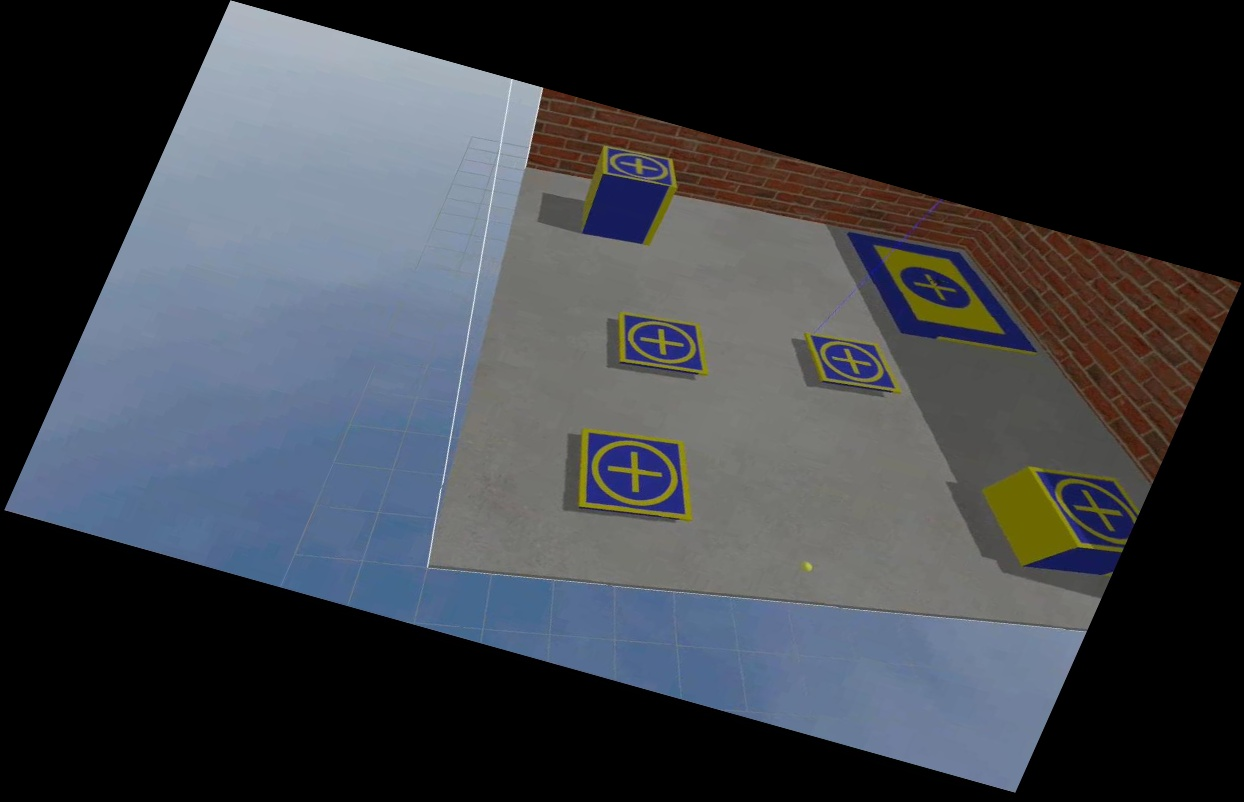large_base: (816, 222, 1066, 371)
small_base: (550, 414, 718, 536), (1001, 455, 1150, 560), (596, 303, 727, 388), (787, 325, 915, 405), (591, 140, 688, 198)
